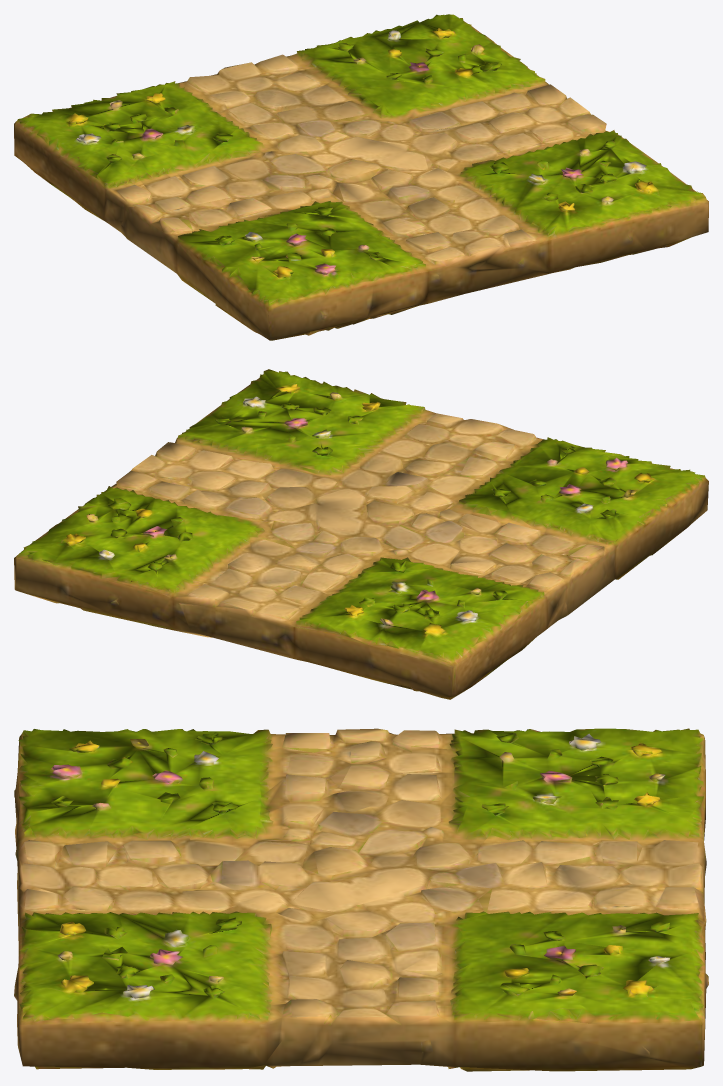
The model's file is path-cross.glb.
The picture shows the model from 3 angles, top to bottom: view 1: azimuth 30°, elevation 25°; view 2: azimuth 150°, elevation 25°; view 3: azimuth 270°, elevation 25°; orthographic projection. The views are drawn at different scales.
Parts seen in each view (by area): view 1: Mesh1.0; view 2: Mesh1.0; view 3: Mesh1.0.
Boxes of the visible parts, bbox=[...] form: Mesh1.0: bbox=[14, 14, 708, 340]; Mesh1.0: bbox=[14, 369, 708, 699]; Mesh1.0: bbox=[14, 728, 708, 1071].
Size of the model in its own units: 1.9 by 0.2059 by 1.9.
Materials: 1 (1 with a texture image).
